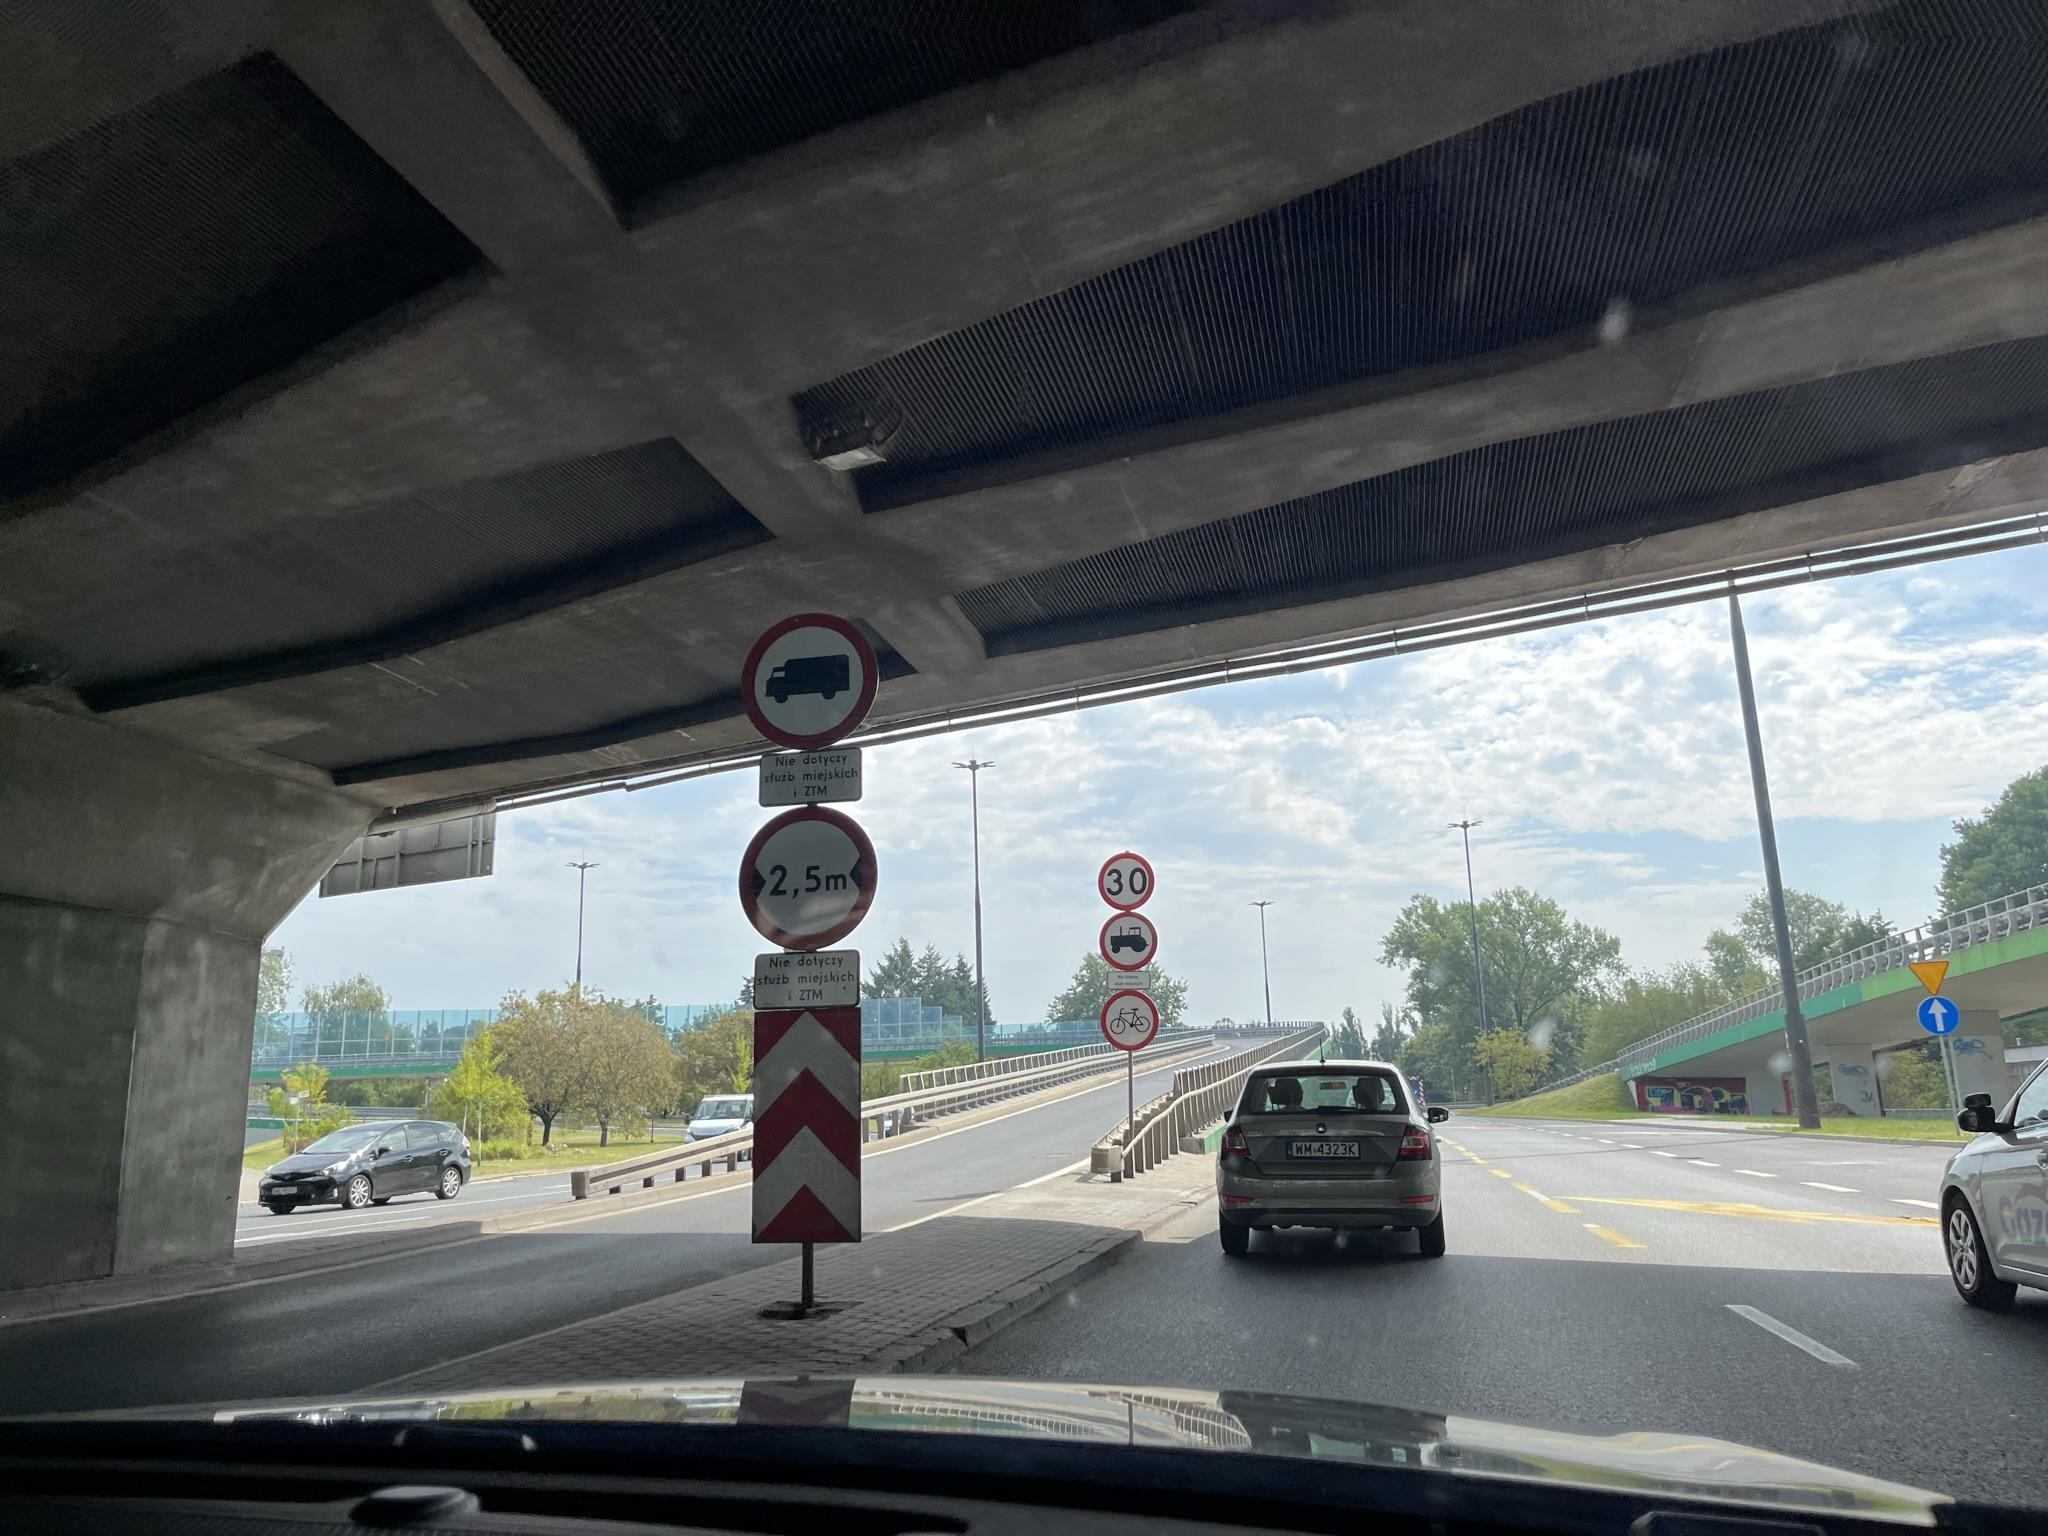mandatory: (1916, 995, 1961, 1036)
prohibitory: (737, 805, 880, 950), (739, 611, 880, 750), (1100, 991, 1159, 1052), (1098, 912, 1158, 971), (1100, 852, 1156, 912)
warning: (1908, 960, 1950, 995)
